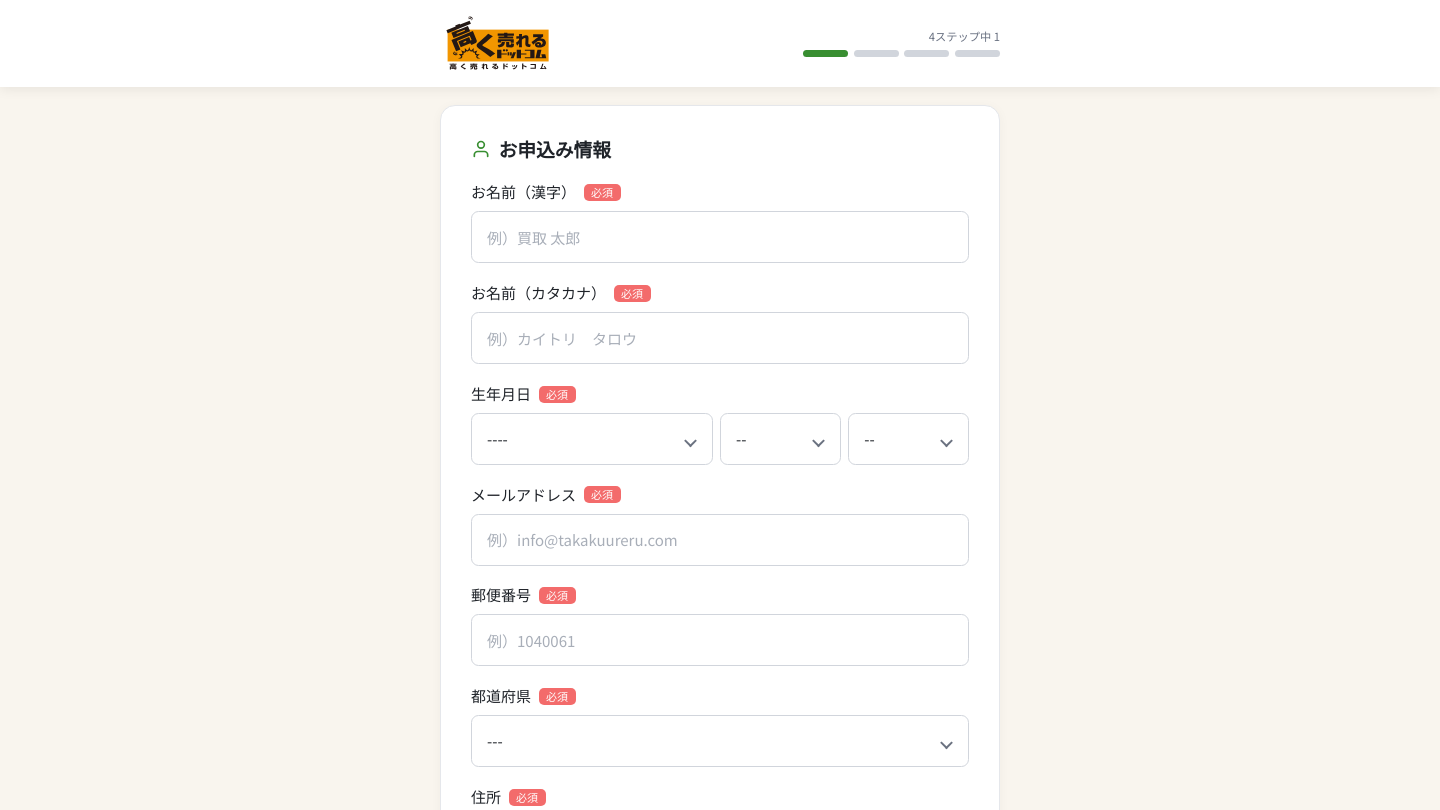
Step1PersonalInfo — postal code input › normalizes full-width digits (１２３) entered via Japanese IME
In the field with placeholder "例）1040061": (720, 640) [471, 614, 969, 666], type "１２３４５６７"
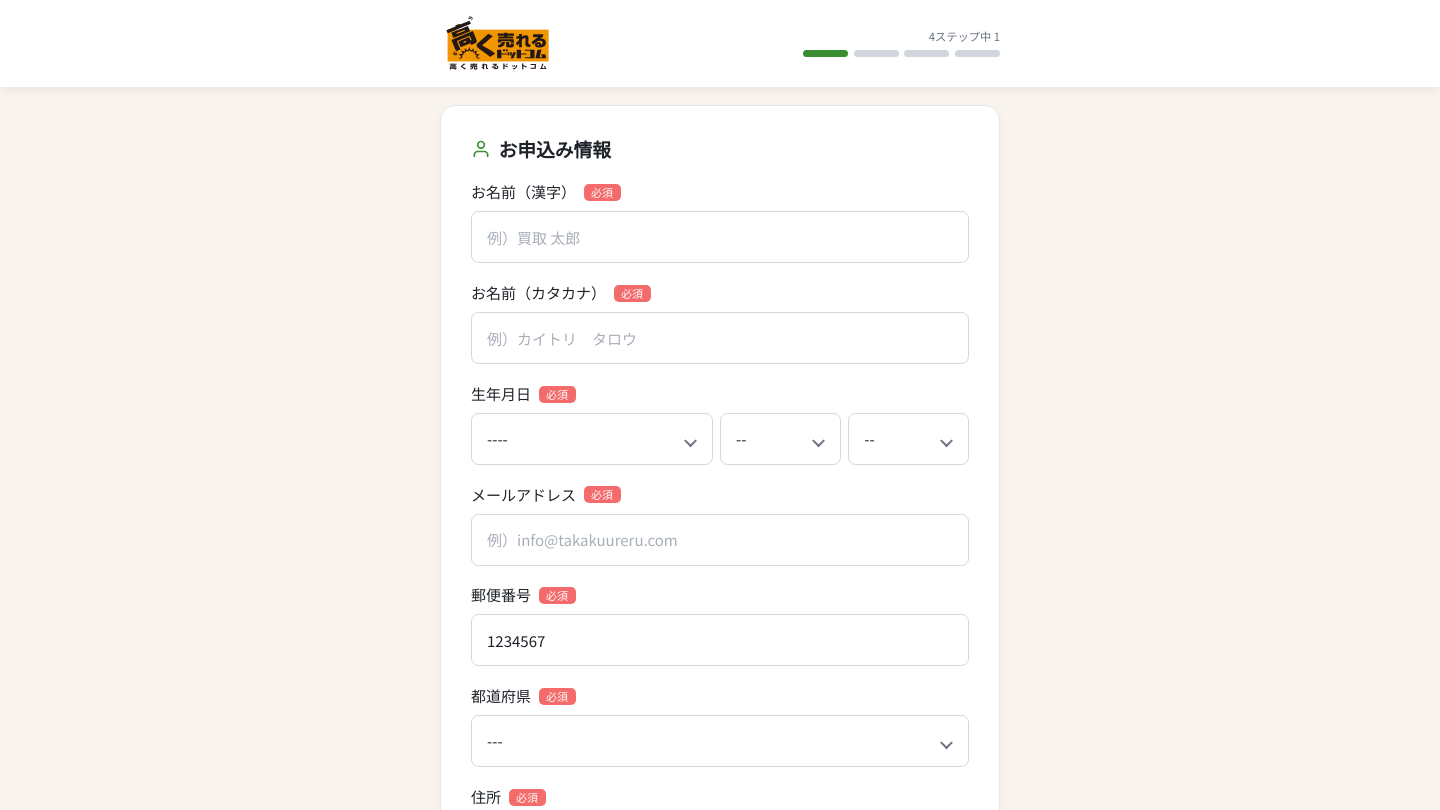
Expected: the field with placeholder "例）1040061" holds "1234567", [471, 614, 969, 666]
